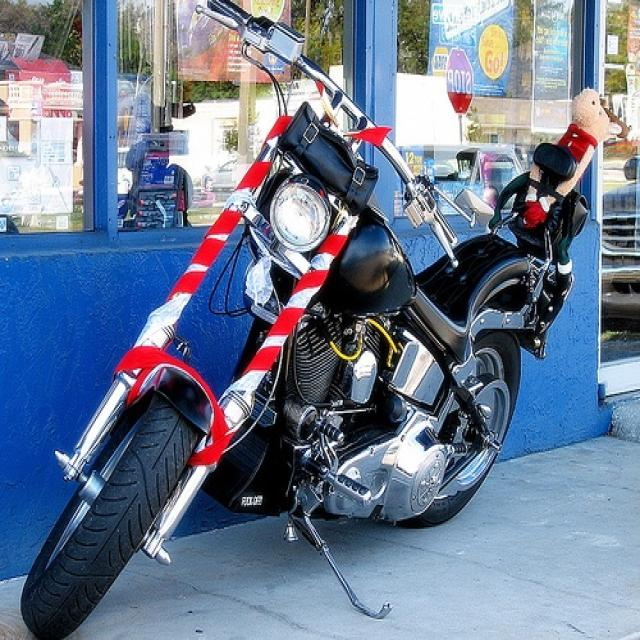motorbike: (20, 0, 588, 638)
